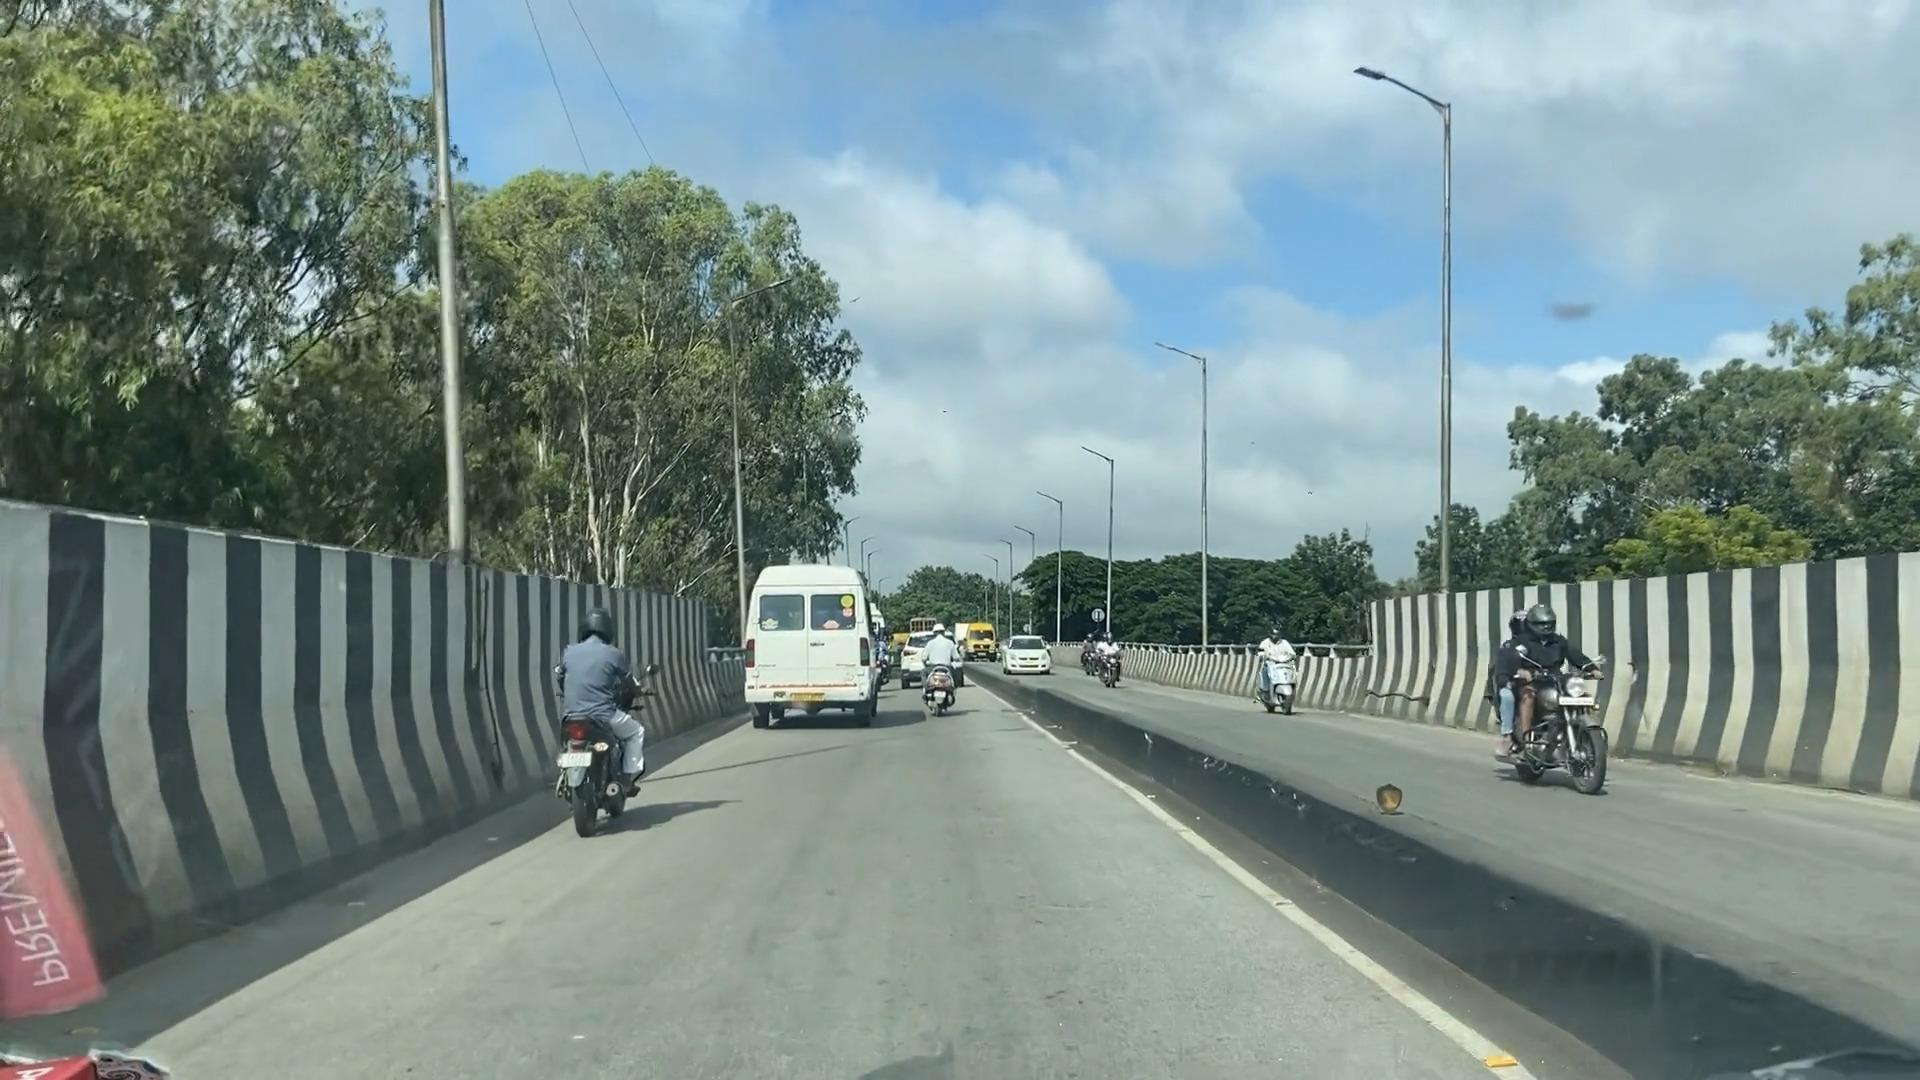HMV: (742, 565, 880, 731)
LMV: (534, 590, 648, 851), (925, 597, 972, 725)
